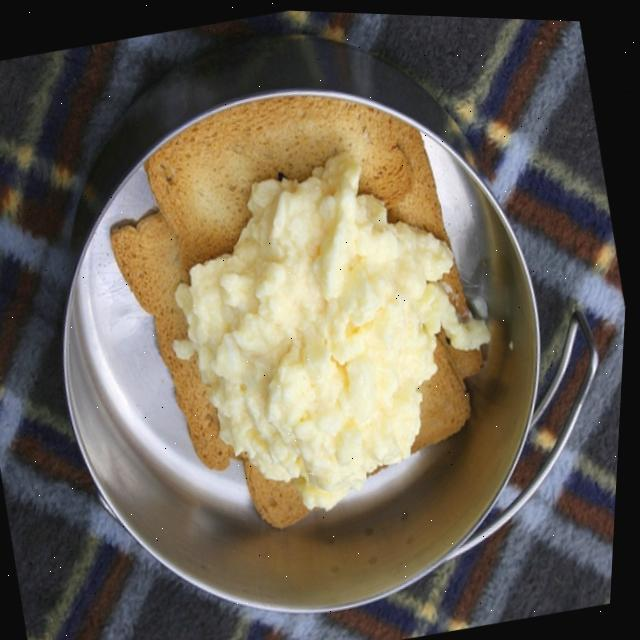鸡蛋料理: (0, 7, 616, 640)
